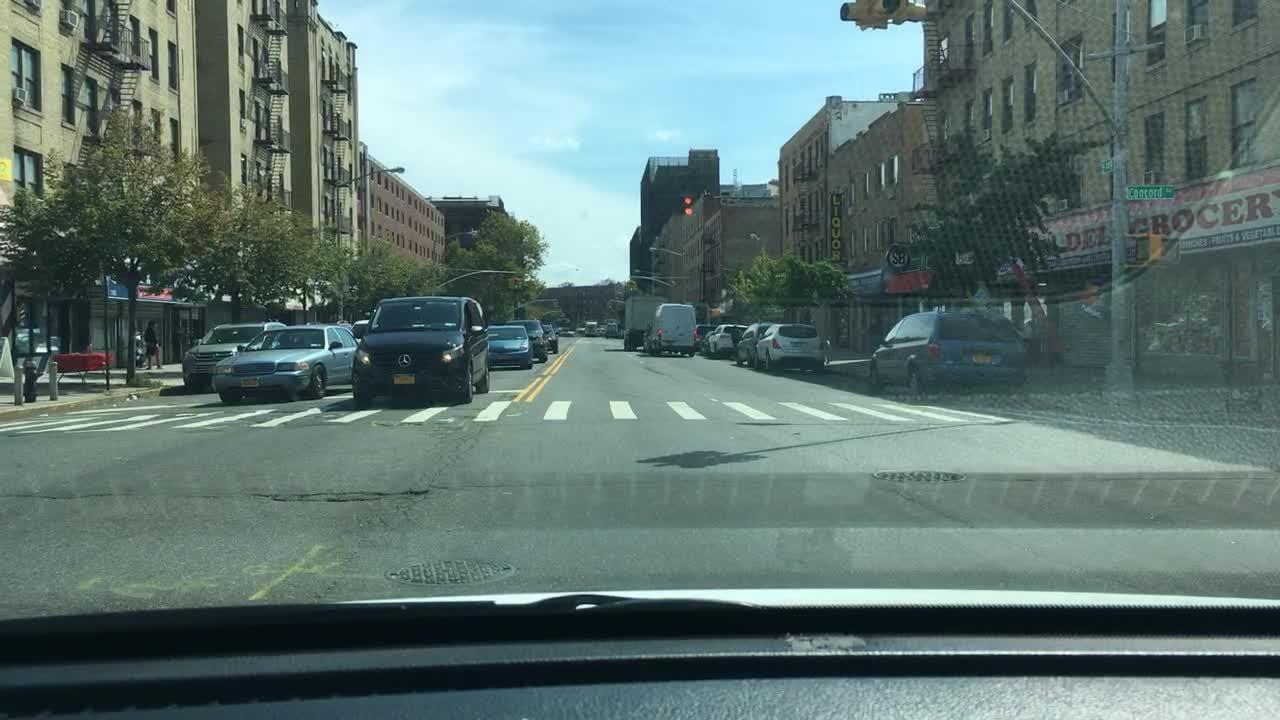Mercedes: (396, 350, 412, 372)
